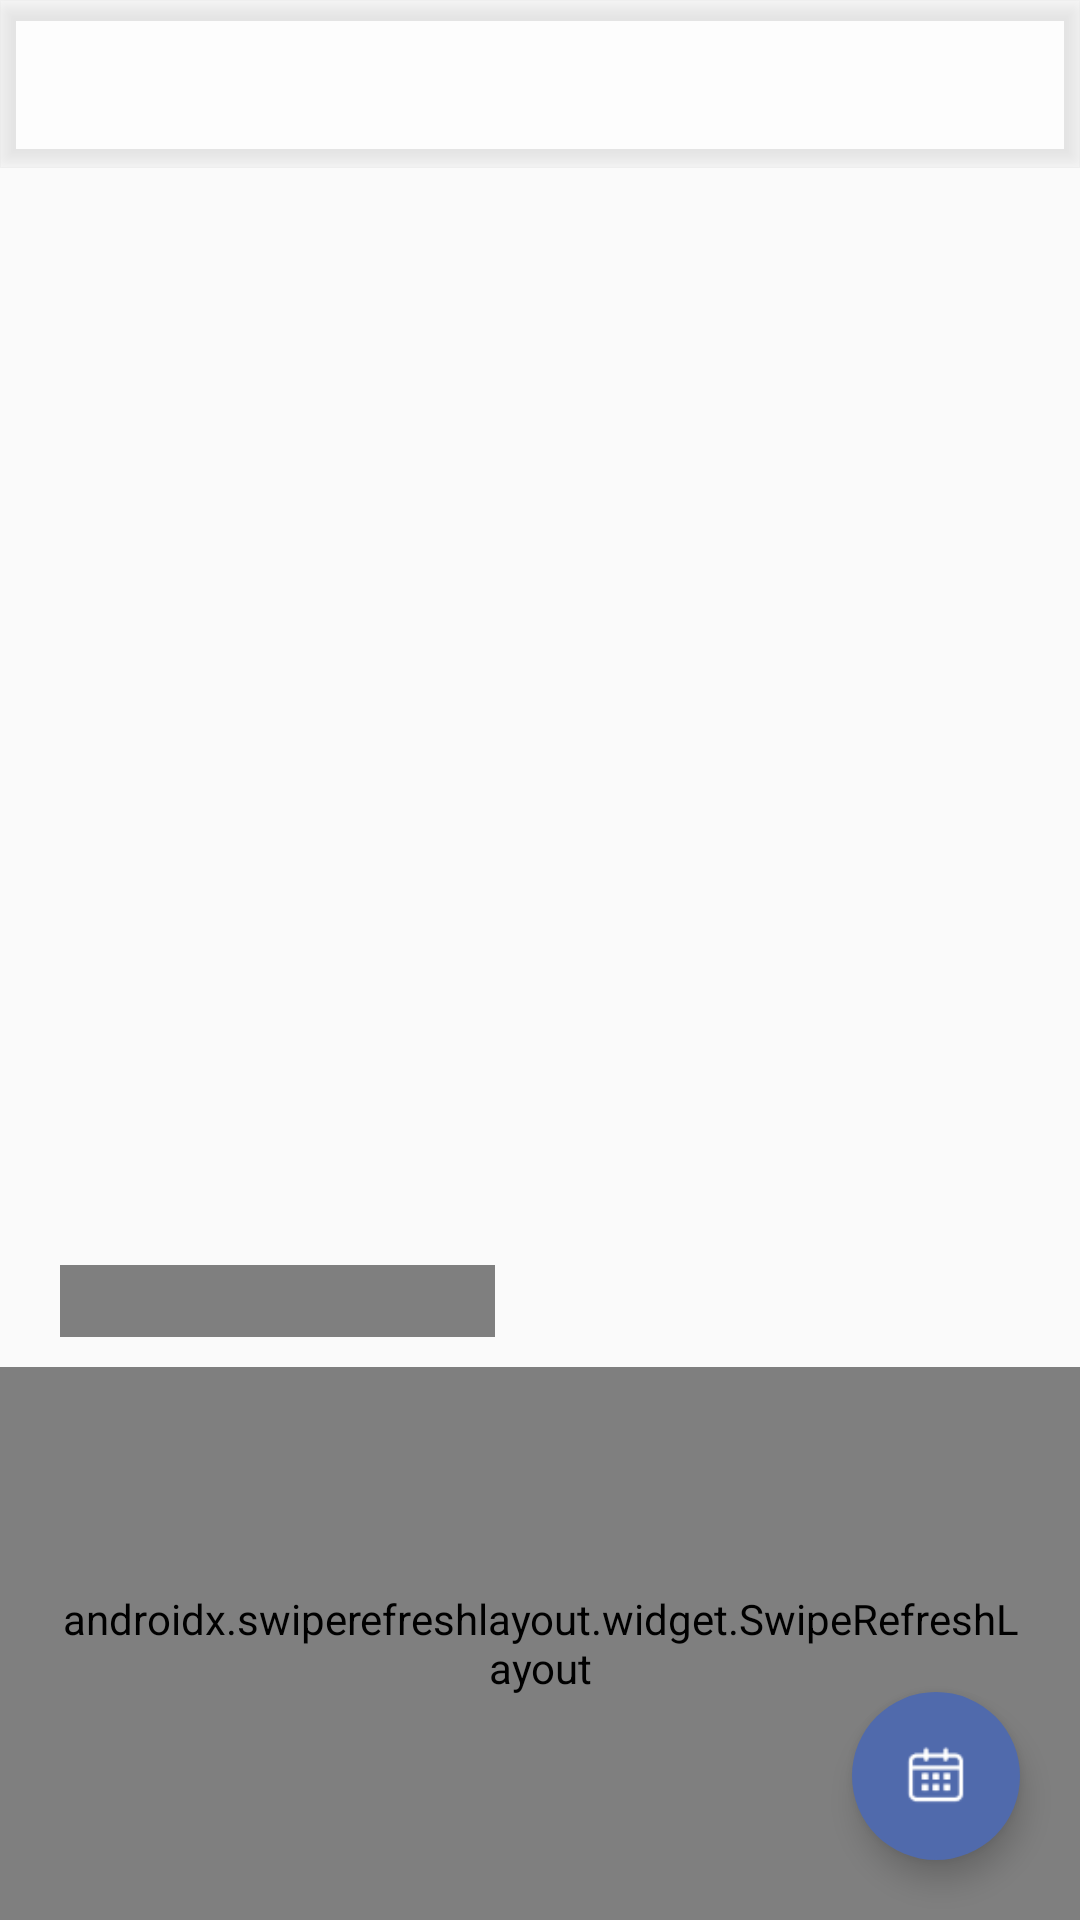

Icons on this 1080 x 1920 Android screen, each with the point to tap as (x=x, y=y):
lesson fab: (x=936, y=1776)
